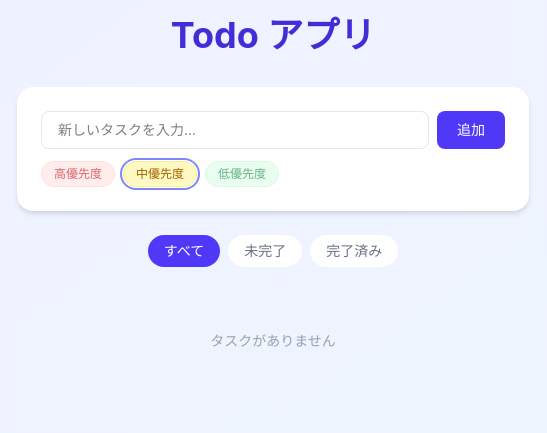
Test: Home (Todo アプリ) › フィルター › 「完了済み」フィルターで完了したTodoのみ表示される
Type "未完了タスク" into the field with placeholder "新しいタスクを入力..." at (235, 130), box [41,111,429,149]
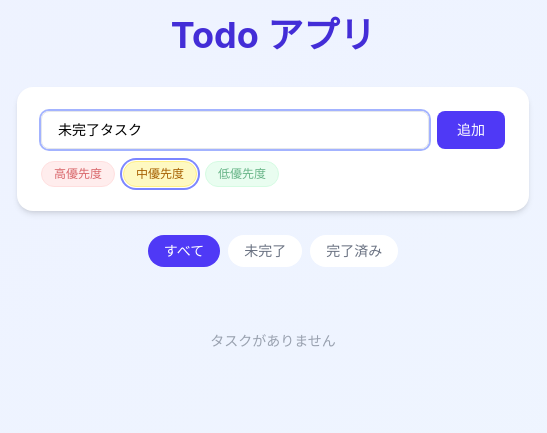
Click the button "追加" at (471, 130), box [437,111,505,149]
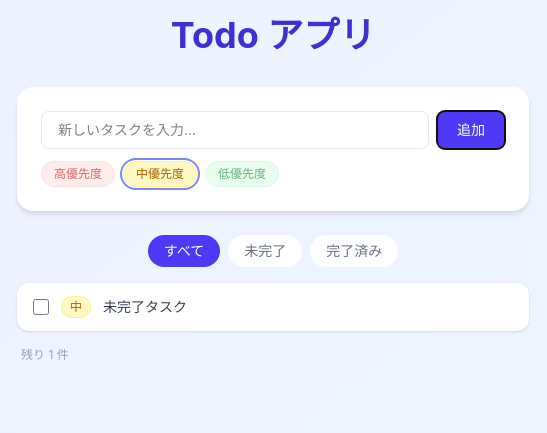
Type "完了タスク" into the field with placeholder "新しいタスクを入力..." at (235, 130), box [41,111,429,149]
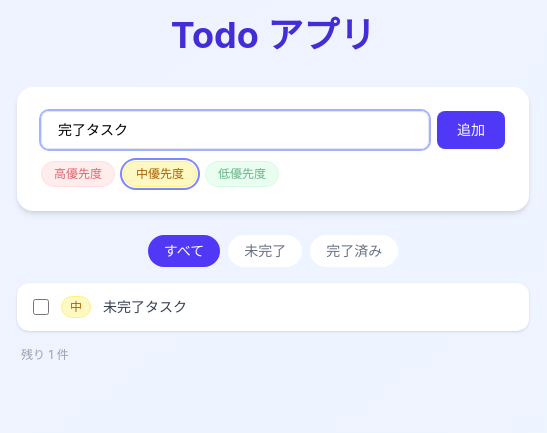
Click the button "追加" at (471, 130), box [437,111,505,149]
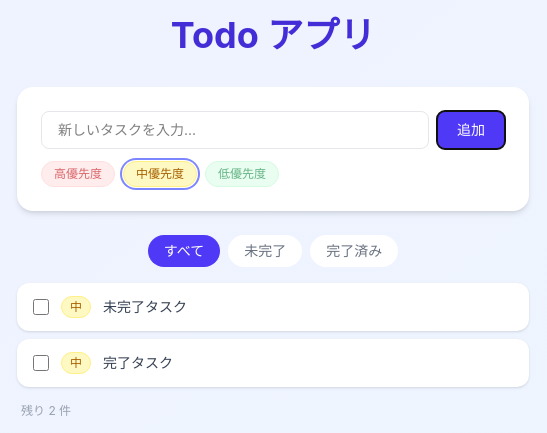
Click the 2nd checkbox at (41, 363), box [33,355,49,371]
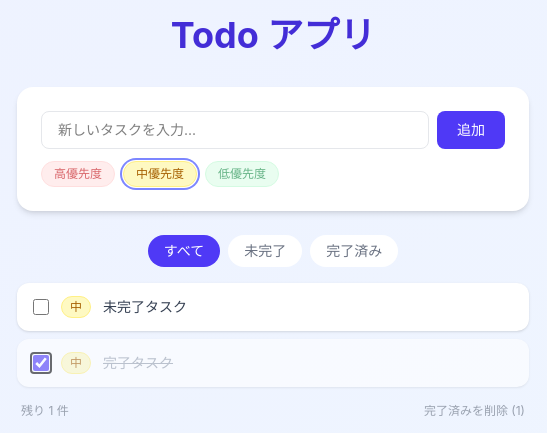
Click the button "完了済み" at (354, 251), box [310,235,398,267]
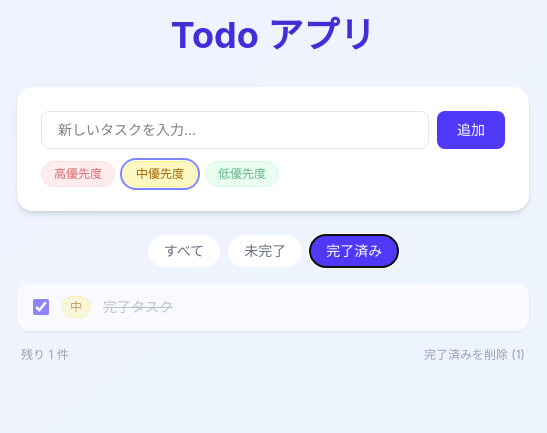
Check: the text "完了タスク" is shown, box [103,298,173,315]
Check: the text "未完了タスク" is gone
